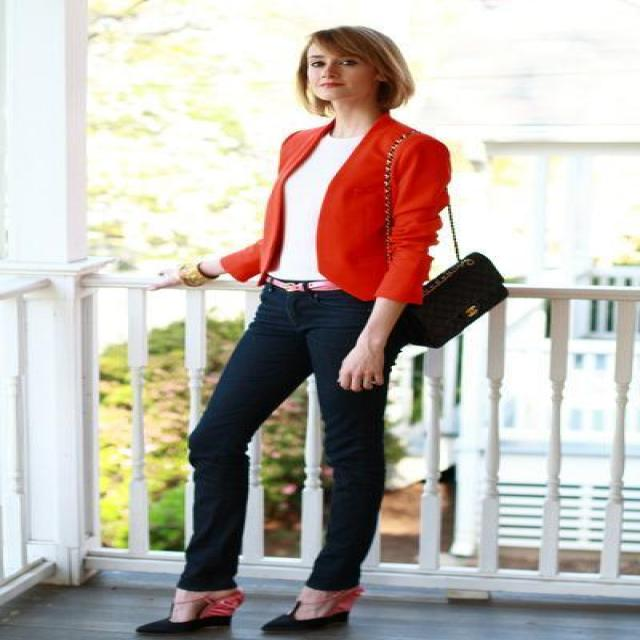bag: (382, 205, 508, 378)
jacket: (220, 115, 450, 319)
pants: (178, 275, 396, 591)
shirt: (269, 135, 360, 290)
shoe: (136, 602, 347, 639)
